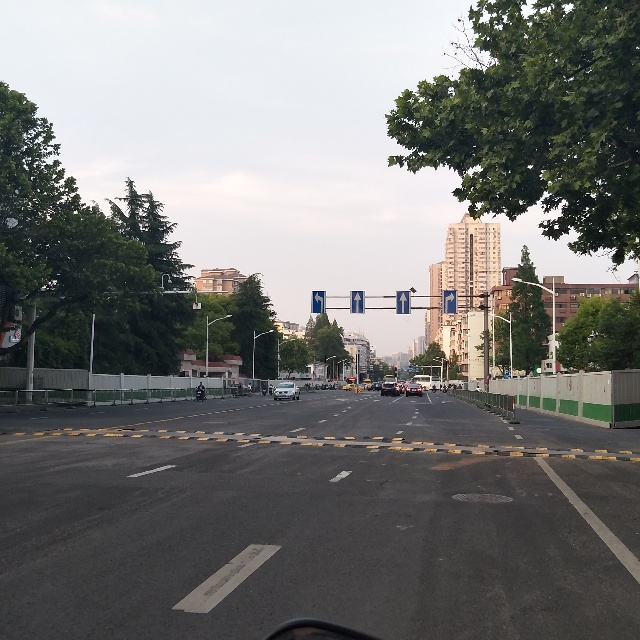left: (310, 290, 327, 314)
right: (445, 290, 457, 315)
straight: (351, 290, 364, 313), (398, 290, 409, 313)
